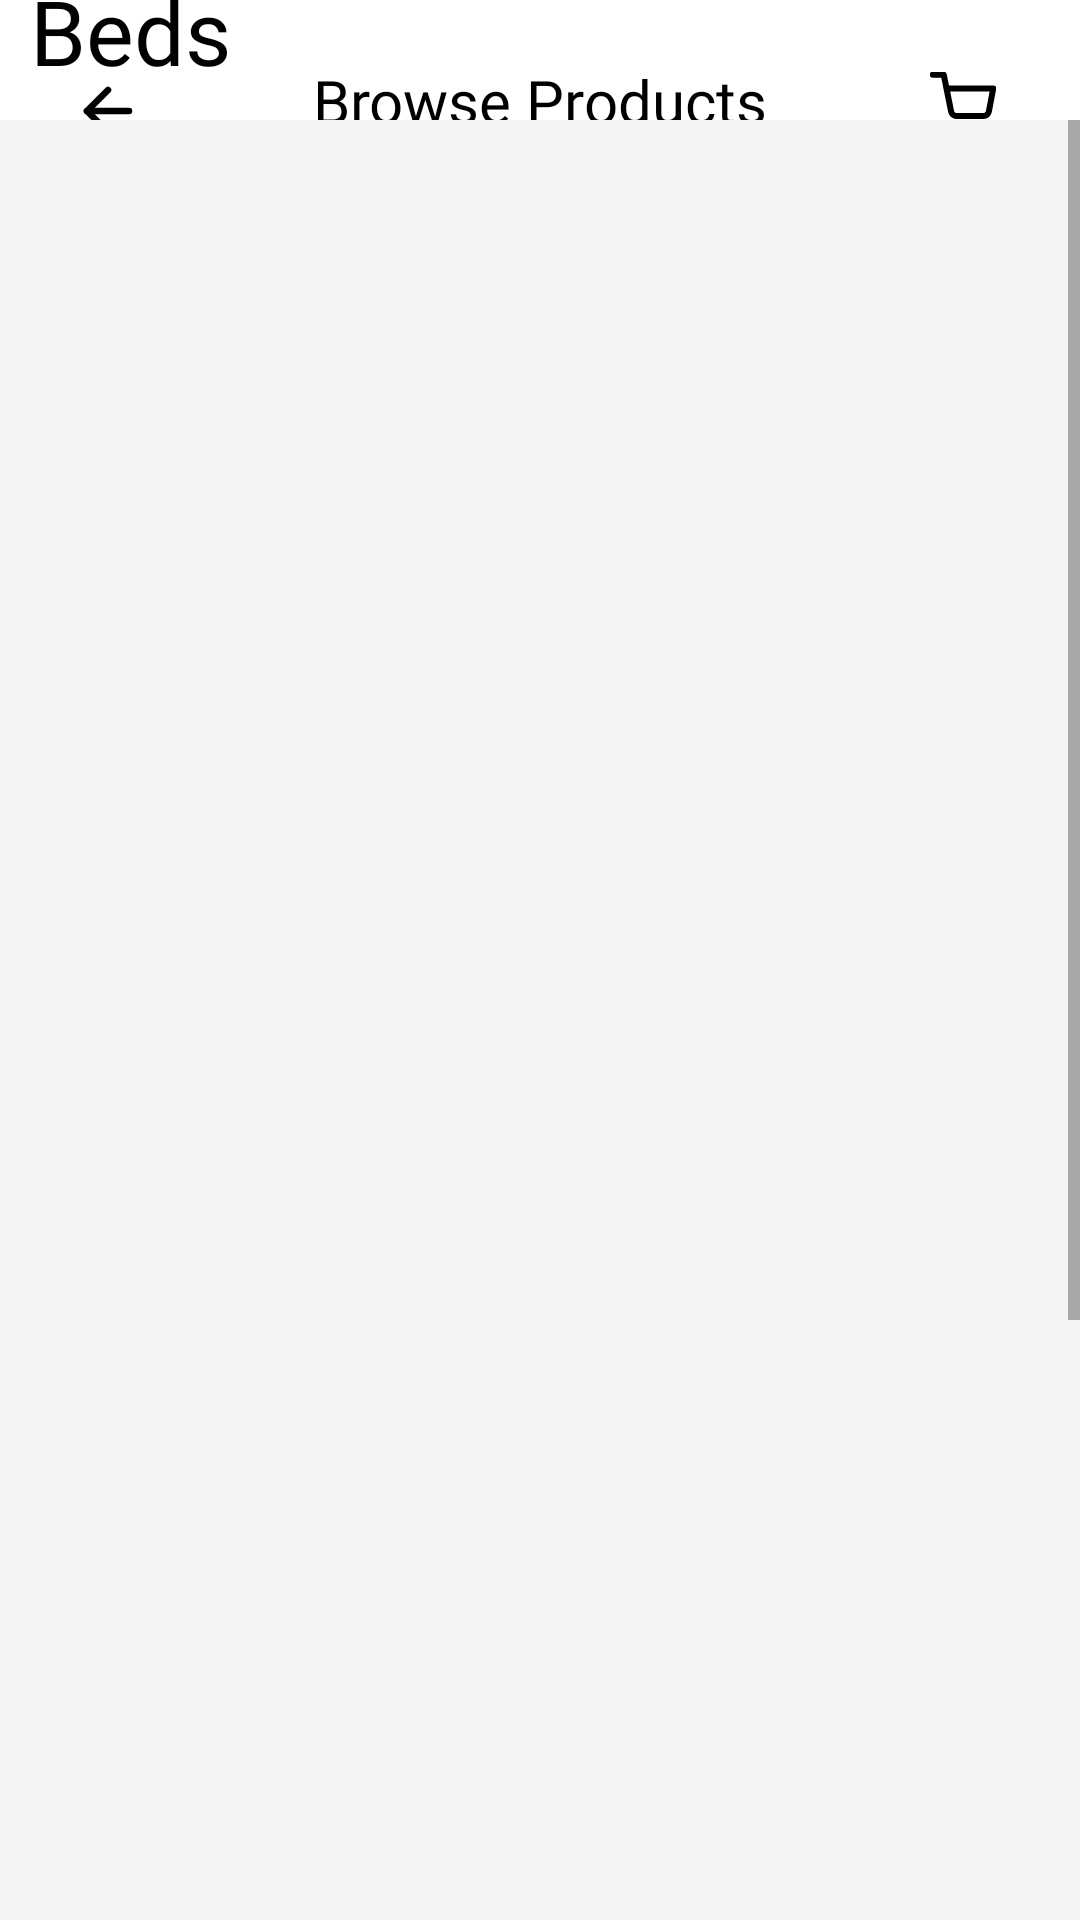

Named icons in this screenshot (1080*1920) and their centers, [x,y]:
arrow left: [108,90]
shopping cart: [963,96]
